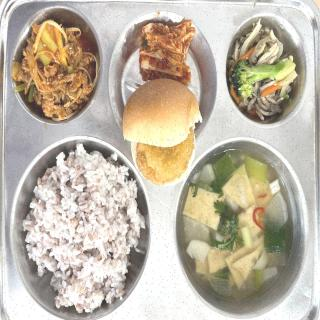Nasi: (25, 153, 138, 313)
